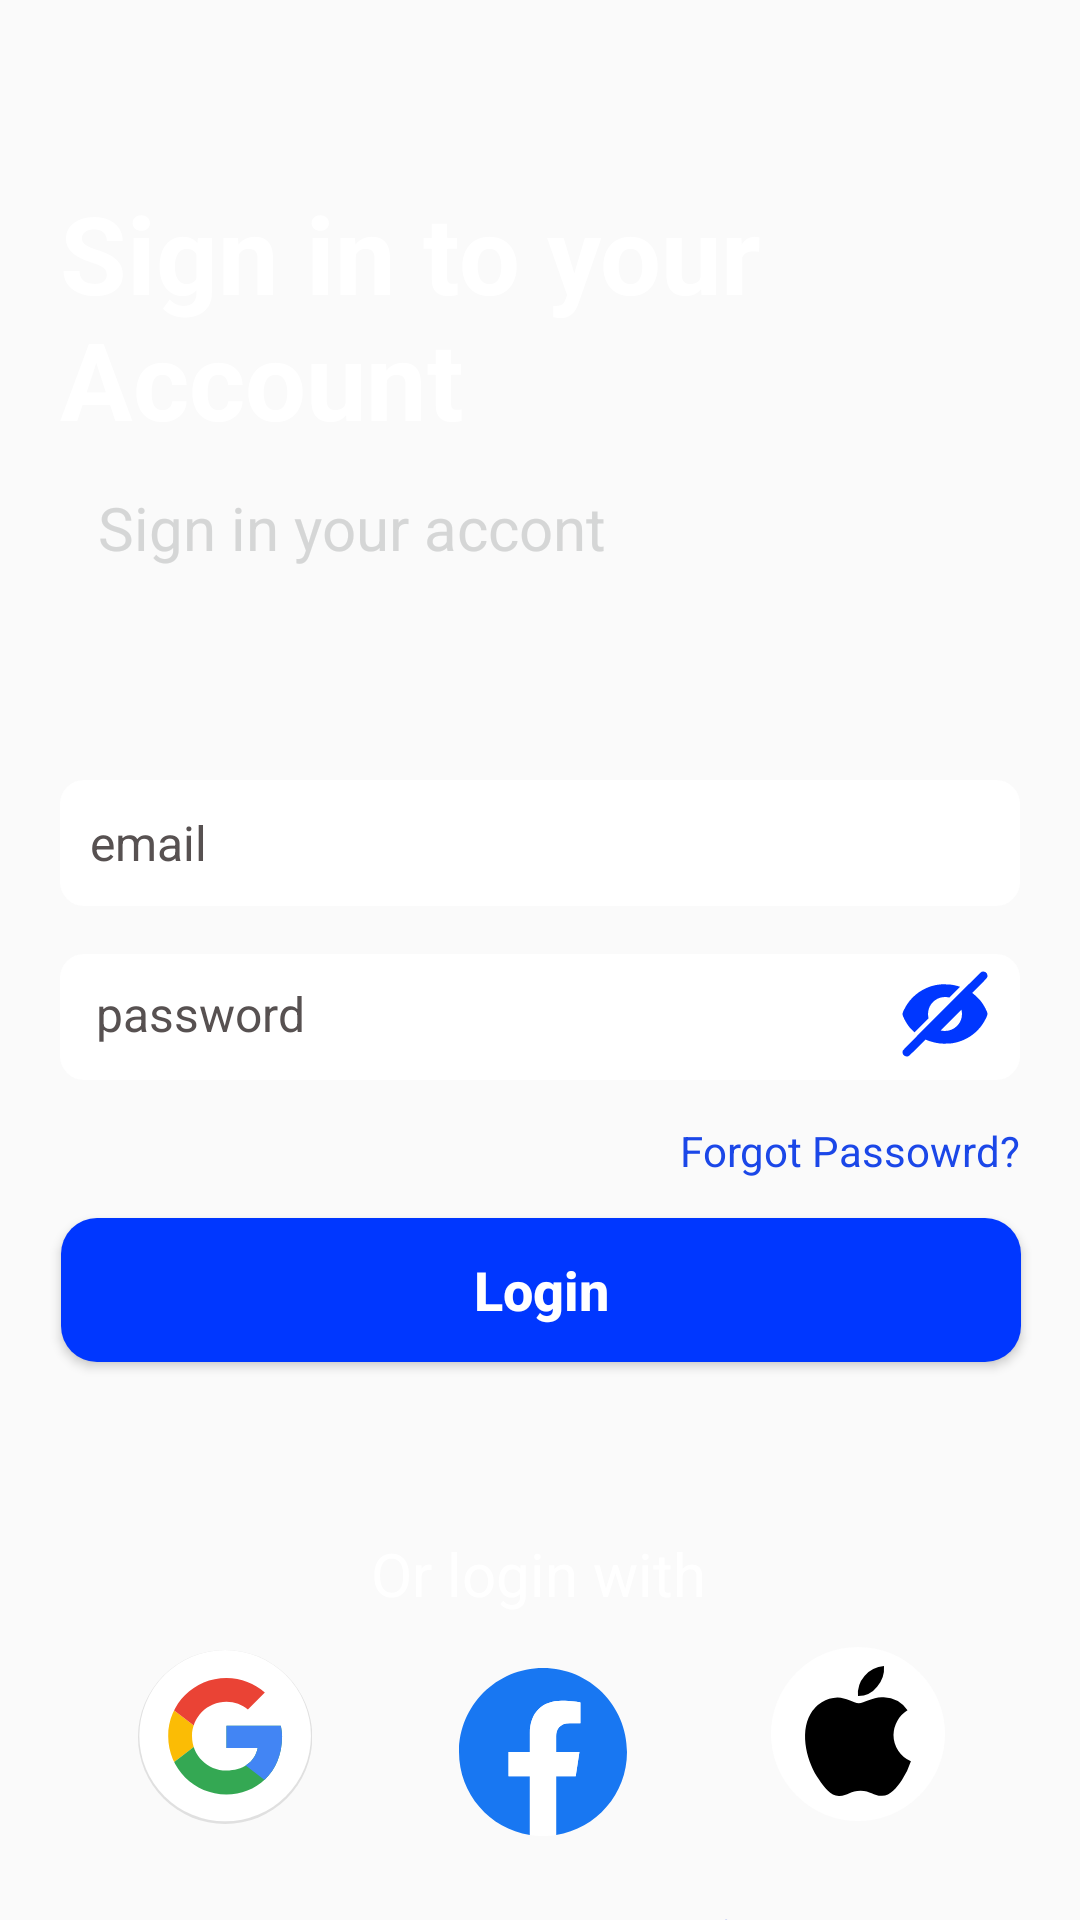

Locate icon controls on the screen. Image size 1080*1920, boxes as BBox(x1, y1, x2, y2).
eye: BBox(902, 971, 988, 1057)
